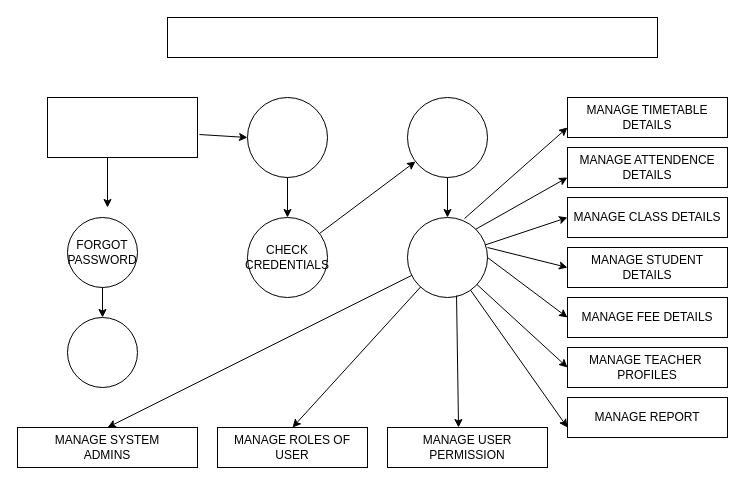
Image size: 745x485. Some labels were removed from this diagram. Each missing label, with the centre of its shape:
"ADMIN" goes at (x=122, y=127).
"CHECK ROLES OF ACCESS" goes at (x=447, y=137).
"LOGIN TO SYSTEM" goes at (x=287, y=137).
"MANAGE MODULES" goes at (x=447, y=257).
"SEND EMAILTO USER" goes at (x=102, y=352).
"STUDENT INFORMATION SYSTEM" goes at (x=412, y=37).
